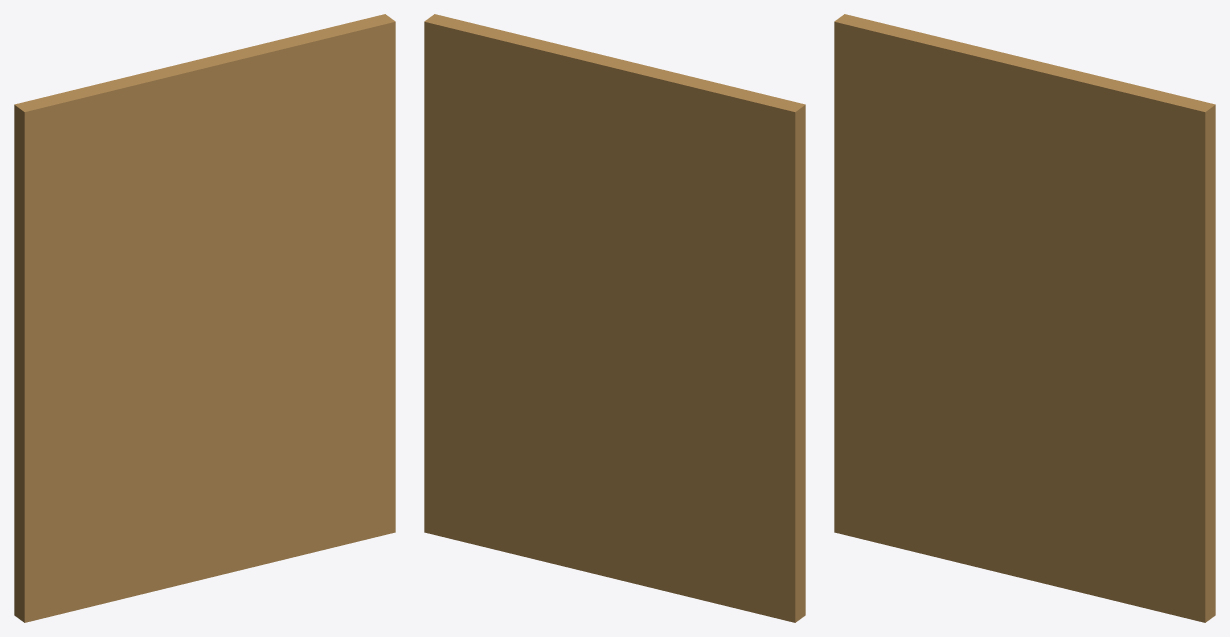
3 renders of one model, left to right at view 1: azimuth 30°, elevation 25°; view 2: azimuth 150°, elevation 25°; view 3: azimuth 330°, elevation 25°, orthographic.
Visible parts, largest first — view 1: FF-W159; view 2: FF-W159; view 3: FF-W159.
Part boxes in pixels (x1=…): FF-W159: x1=14, y1=14, x2=395, y2=622; FF-W159: x1=424, y1=14, x2=805, y2=622; FF-W159: x1=834, y1=14, x2=1215, y2=622.
Bounding box in the file's own units: 1.84 × 2.42 × 0.09.
